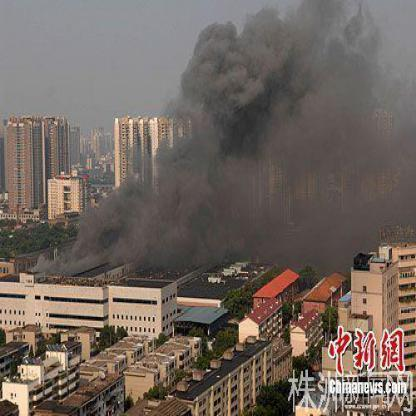smoke: (198, 34, 371, 101), (219, 156, 278, 248), (164, 150, 214, 240), (280, 201, 350, 263), (284, 109, 357, 163), (109, 194, 153, 243), (216, 105, 258, 149)
